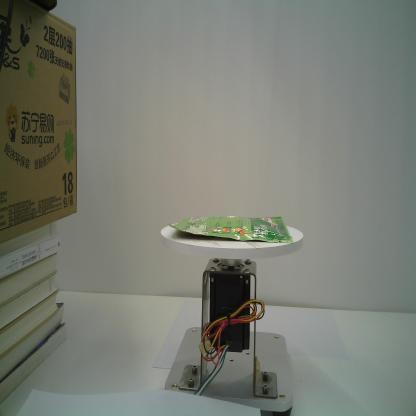Seasoner: (168, 214, 294, 244)
